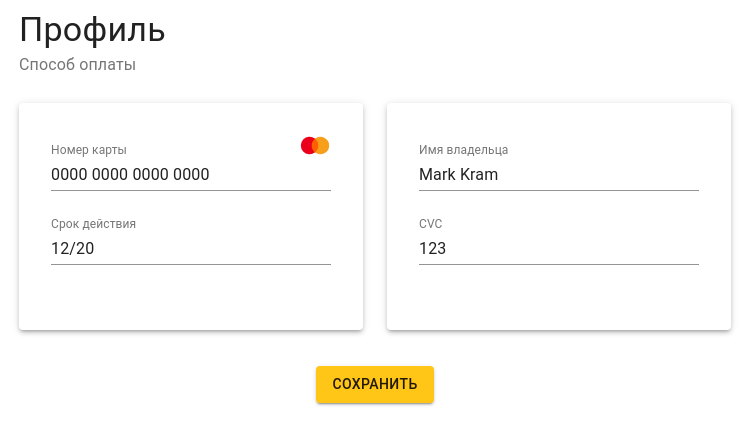
Profile Component › Нажатие кнопки Сохранить приводит к отправке валидной формы
Click the button with test id "profileSubmitBtn" at (375, 384), box [316, 366, 434, 403]
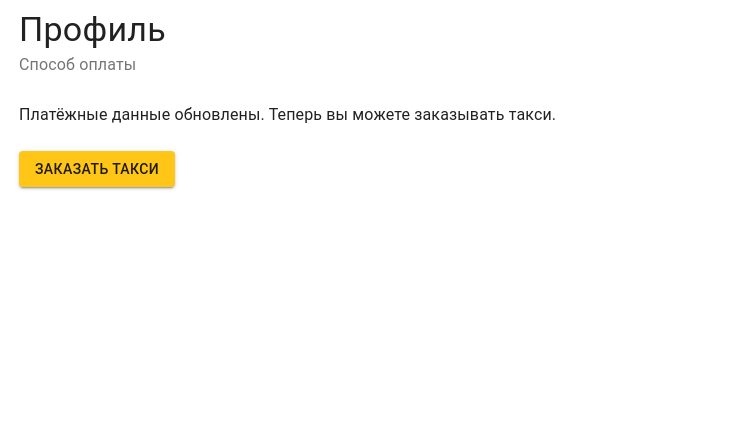
Expected: the text "Платёжные данные обновлены. Теперь вы можете заказывать такси." is shown, [19, 105, 556, 124]
